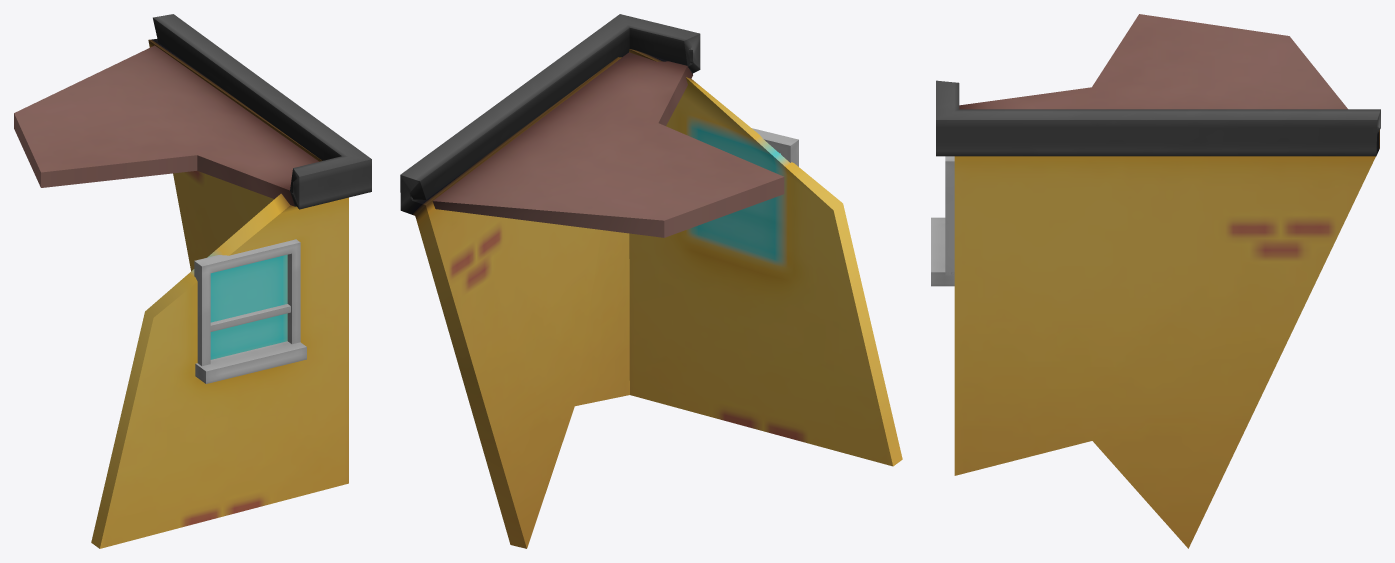
The model's file is B8Broke03.FBX.
The picture shows the model from 3 angles, left to right: view 1: azimuth 30°, elevation 25°; view 2: azimuth 150°, elevation 25°; view 3: azimuth 270°, elevation 25°; orthographic projection. The views are drawn at different scales.
Parts seen in each view (by area): view 1: B8Broke03; view 2: B8Broke03; view 3: B8Broke03.
Boxes of the visible parts, x1,y1,x2,y2 form: B8Broke03: (14, 14, 371, 548); B8Broke03: (400, 14, 902, 548); B8Broke03: (931, 14, 1380, 548).
Size of the model in its own units: 32.99 by 46.94 by 43.79.
